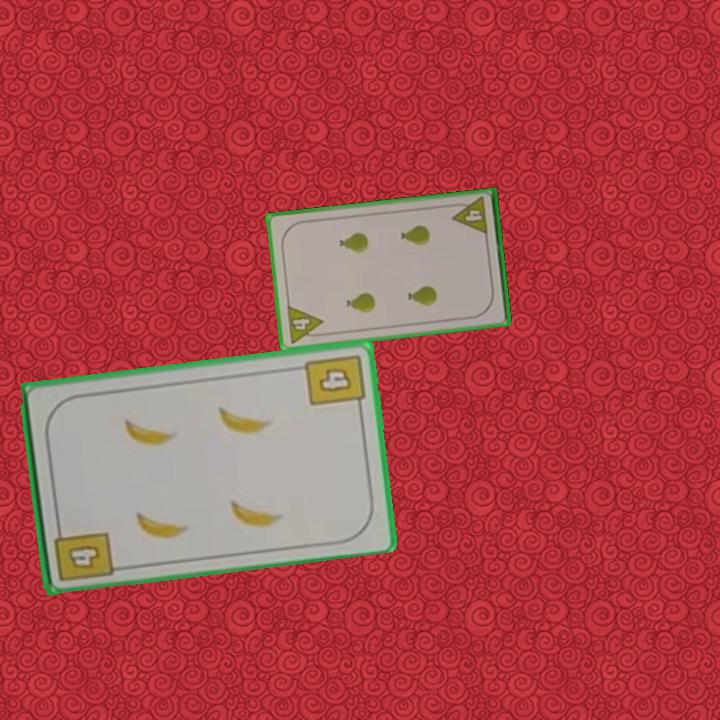4b: (50, 519, 116, 585), (301, 350, 367, 414)
4p: (283, 302, 327, 346), (448, 193, 491, 238)
